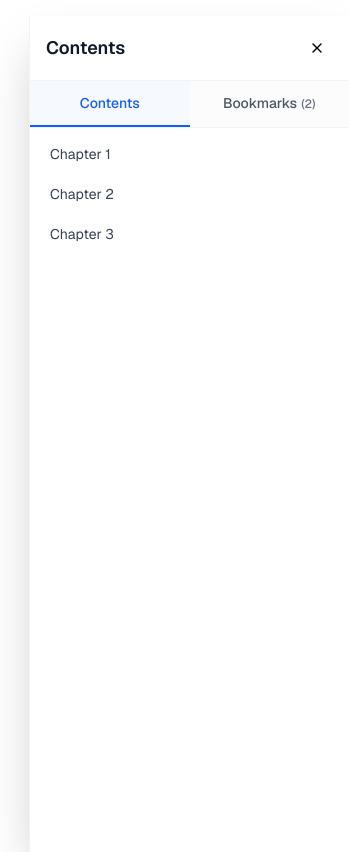
Test case: ContentsAndBookmarksPanel › Tab Switching › should switch to bookmarks tab when clicked
The width and height of the screenshot is (361, 852).
Click the button "Bookmarks(2)" at (269, 104), box [190,81,349,127]
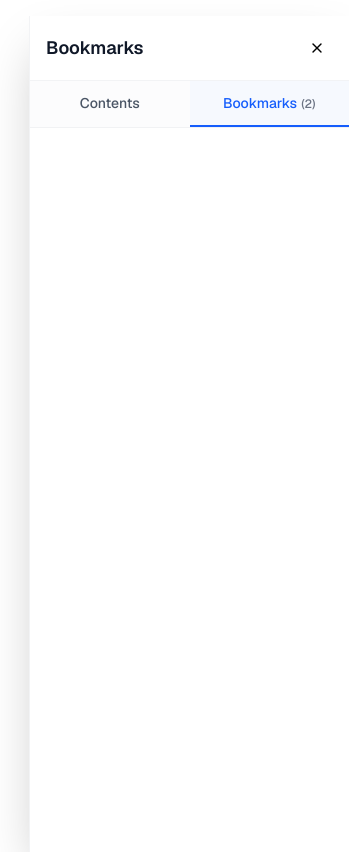
Expected: the heading "Bookmarks" is shown, [46,34,144,62]
